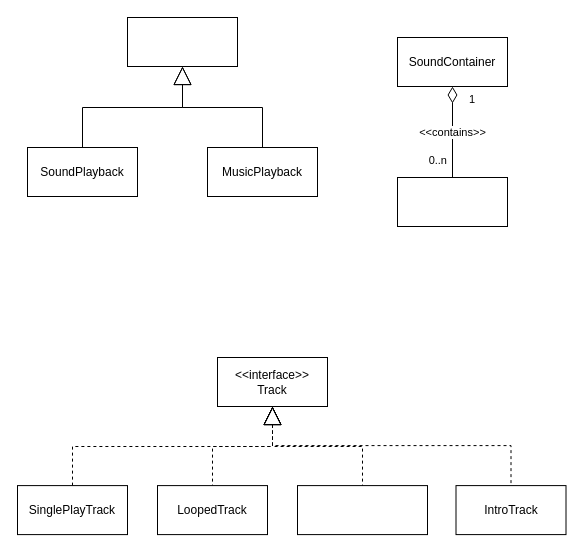
Some shapes in this 584 by 553 pixel diagram are drawn without their labels. Each missing label, with the box of its shape:
MutlipleSoundsTrack: (296, 485, 428, 535)
Playback {abstract}: (126, 16, 238, 66)
Sound: (396, 176, 508, 226)
